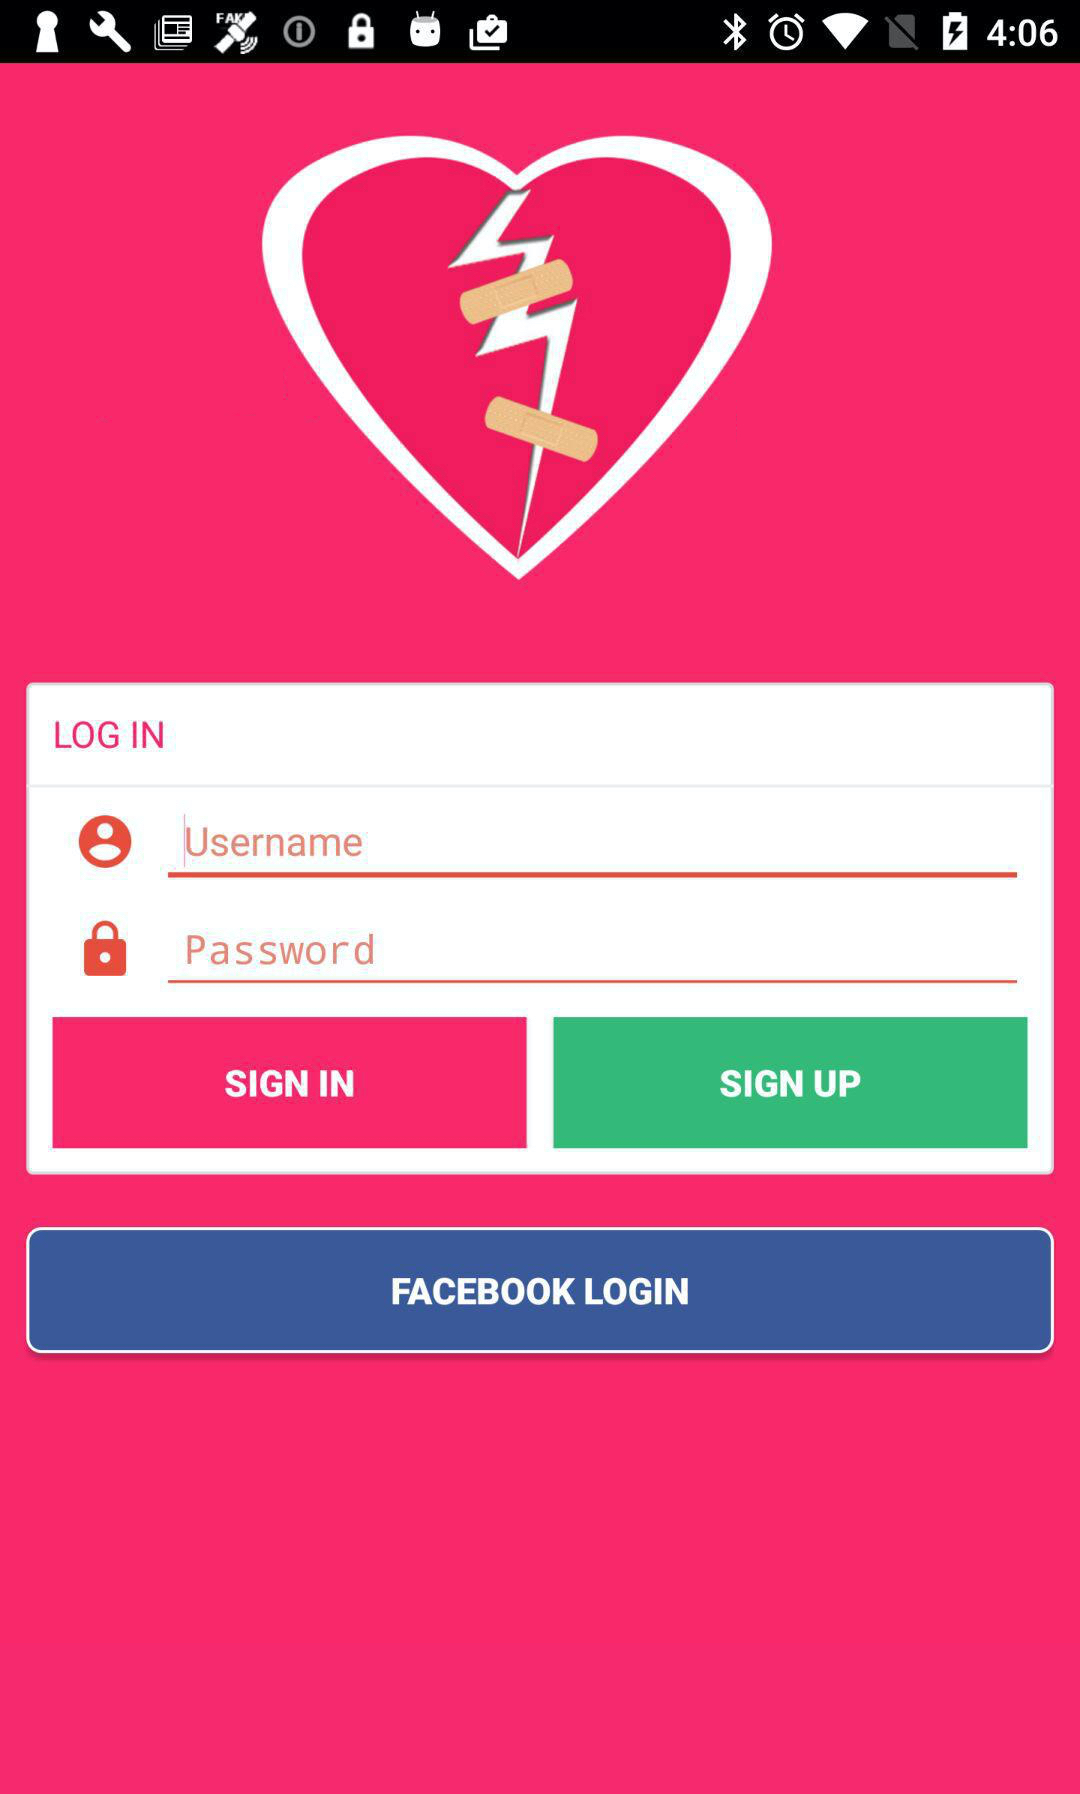EditText: (167, 814, 1019, 879), (168, 932, 1019, 984)
Icon: (79, 815, 133, 869), (85, 920, 128, 976)
Image: (260, 135, 775, 582)
Text: (187, 933, 375, 966), (187, 827, 364, 857), (56, 720, 165, 751)
TextButton: (26, 1228, 1054, 1354), (53, 1017, 528, 1149), (553, 1017, 1027, 1149)
UpperTaskBar: (1, 1, 1080, 64)
